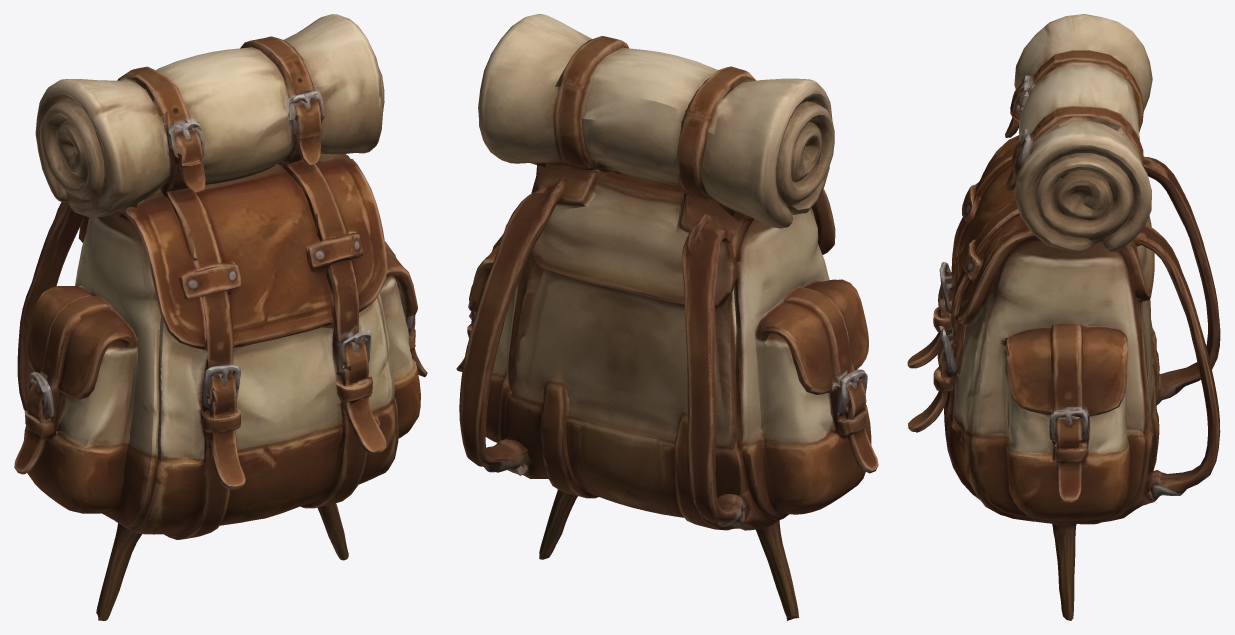
The model's file is harvest_satchel_r2.glb.
3 views of the same model, side by side, from view 1: azimuth 30°, elevation 25°; view 2: azimuth 150°, elevation 25°; view 3: azimuth 270°, elevation 25° (orthographic). The views are drawn at different scales.
Visible parts, largest first — view 1: Mesh_0; view 2: Mesh_0; view 3: Mesh_0.
Boxes of the visible parts, bbox=[...] form: Mesh_0: bbox=[14, 14, 427, 620]; Mesh_0: bbox=[456, 14, 878, 620]; Mesh_0: bbox=[907, 14, 1220, 620].
Size of the model in its own units: 1.52 by 1.9 by 1.1.
1 material, 1 textured.
